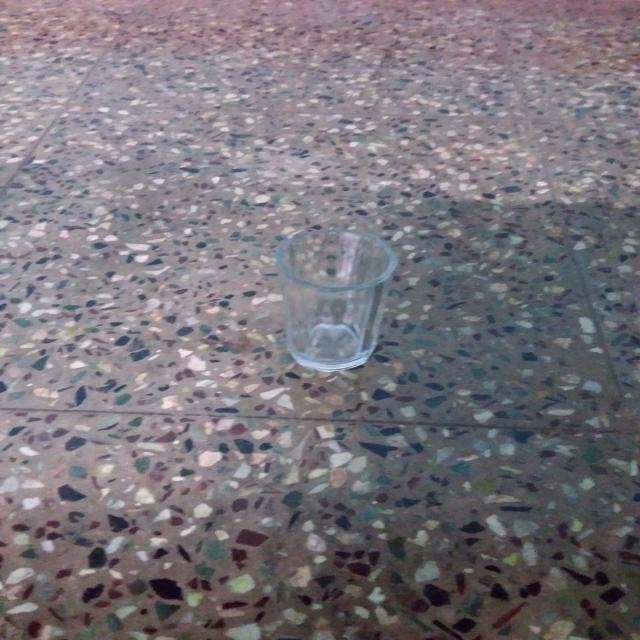Glass: (270, 223, 403, 374)
